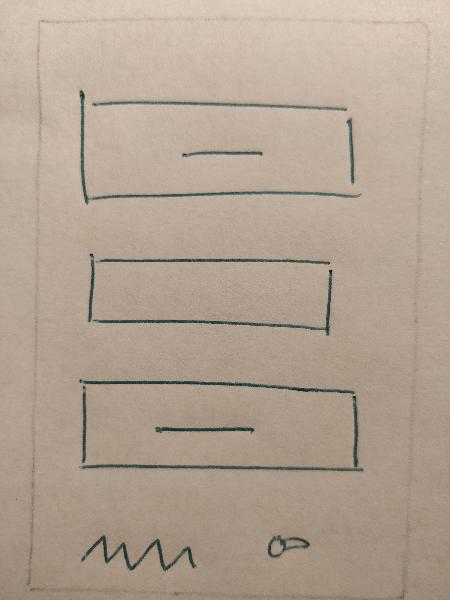button: (69, 85, 372, 210), (68, 370, 376, 483)
switch: (252, 526, 326, 564)
text: (65, 527, 216, 581)
text_input: (76, 247, 341, 343)
